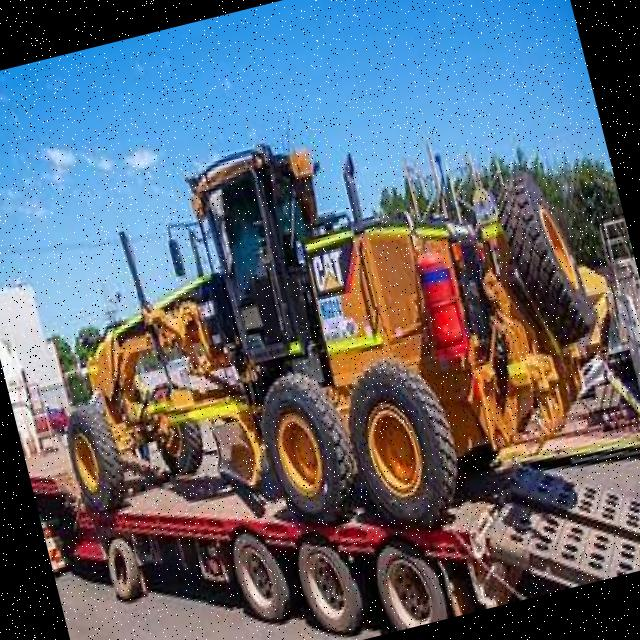Grader: (0, 62, 640, 600)
